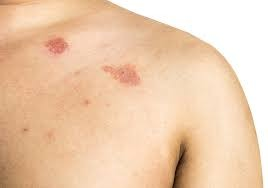Ringworm: (96, 57, 151, 91), (34, 31, 76, 60)
